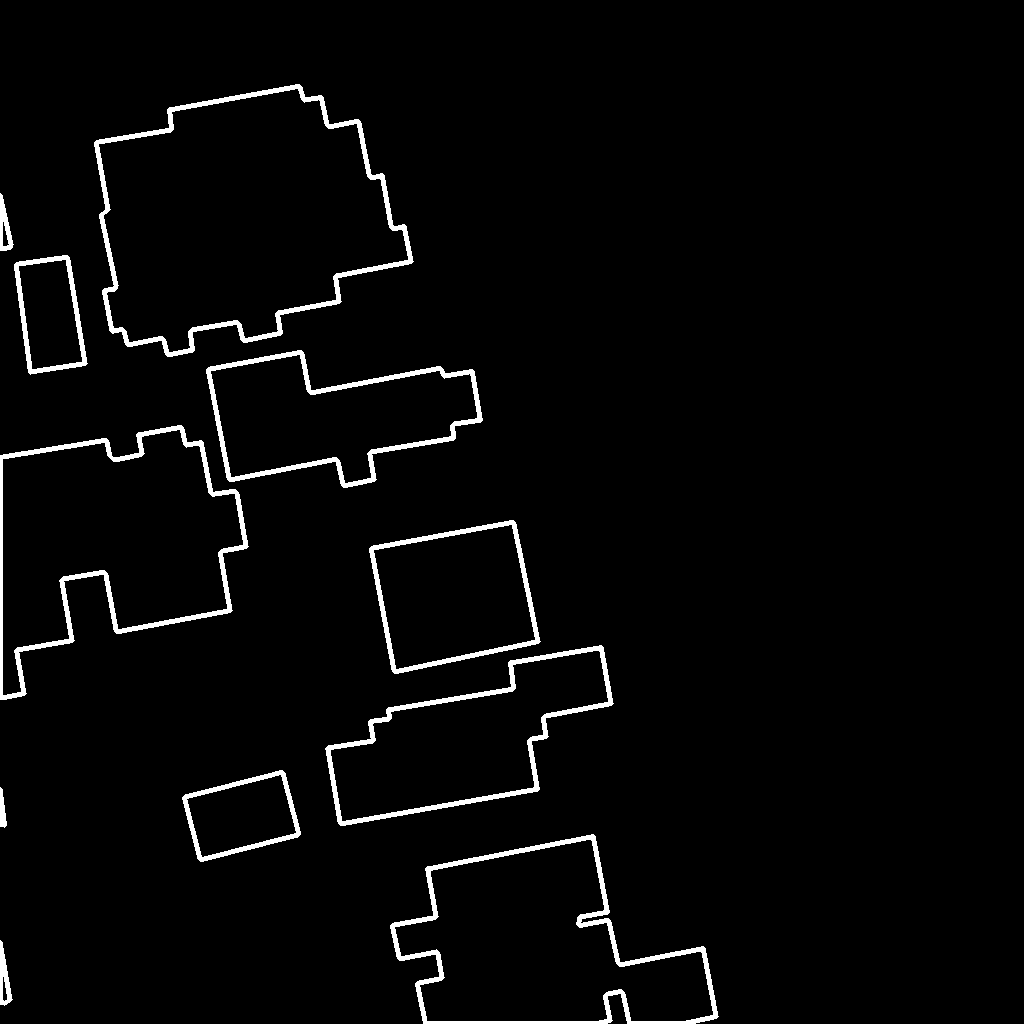building: (96, 86, 412, 356), (0, 427, 247, 699), (327, 647, 612, 825), (208, 352, 482, 487), (417, 920, 717, 1024), (392, 836, 609, 960), (371, 522, 539, 673), (184, 772, 300, 861), (16, 257, 86, 373), (0, 940, 11, 1004), (0, 193, 12, 250), (0, 785, 6, 826)
